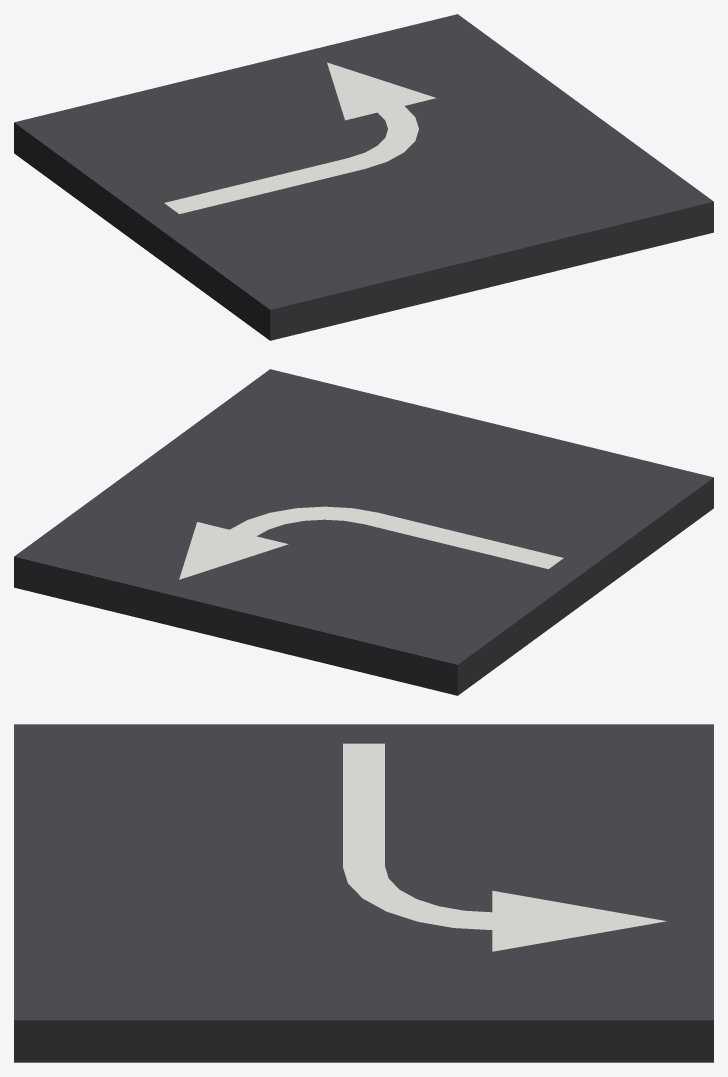
File: SC_Gnd_Road_Arrow_Left.gltf
3 views of the same model, one above another, from view 1: azimuth 30°, elevation 25°; view 2: azimuth 150°, elevation 25°; view 3: azimuth 270°, elevation 25° (orthographic). The views are drawn at different scales.
Visible parts, largest first — view 1: SC_Gnd_Road_Arrow_Left; view 2: SC_Gnd_Road_Arrow_Left; view 3: SC_Gnd_Road_Arrow_Left.
Part boxes in pixels (bbox=[...]): SC_Gnd_Road_Arrow_Left: bbox=[14, 14, 713, 340]; SC_Gnd_Road_Arrow_Left: bbox=[14, 369, 713, 695]; SC_Gnd_Road_Arrow_Left: bbox=[14, 724, 713, 1062].
Bounding box in the file's own units: 3 × 0.202 × 3.
Materials: 1 (1 with a texture image).
